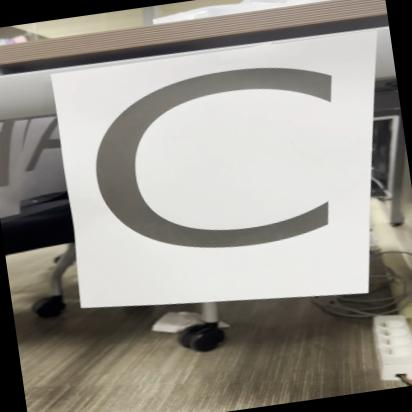seat: (48, 28, 388, 319)
